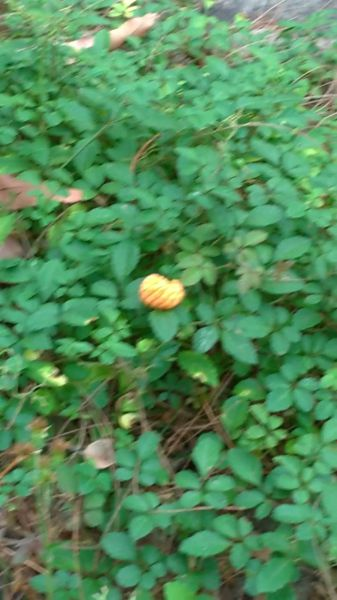eggs: (137, 268, 189, 314)
